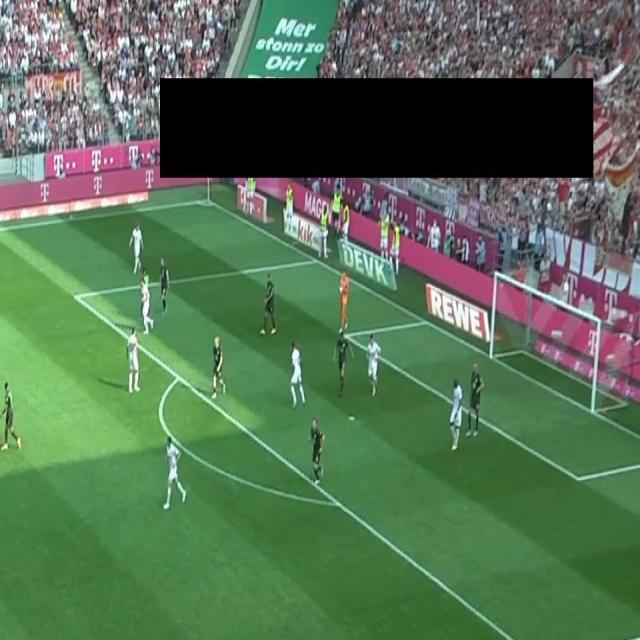ball: (338, 284, 344, 294)
